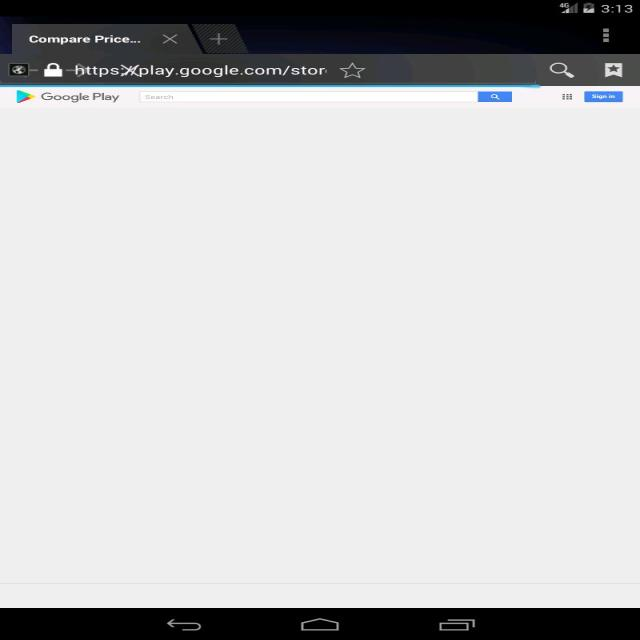button: (584, 90, 625, 102), (478, 92, 512, 102), (562, 92, 573, 102)
field: (140, 91, 478, 102)
heading: (43, 91, 124, 106)
image: (13, 89, 36, 106)
label: (144, 94, 176, 99)
